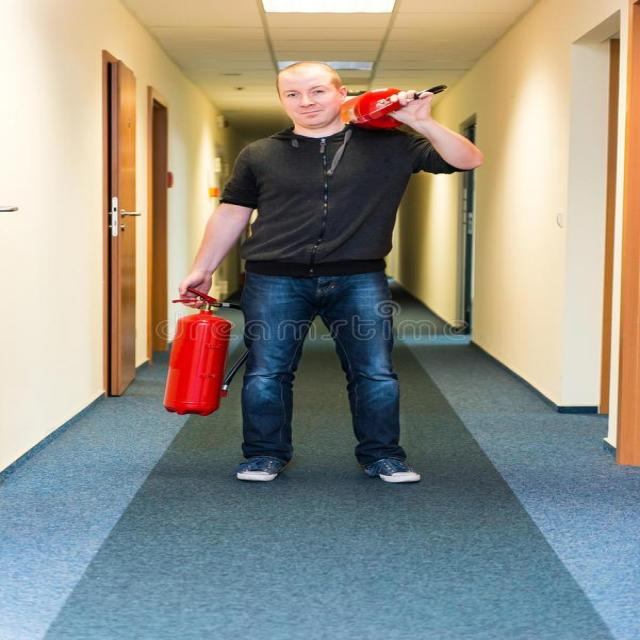fire_extinguisher: (147, 283, 266, 421), (333, 72, 452, 134)
